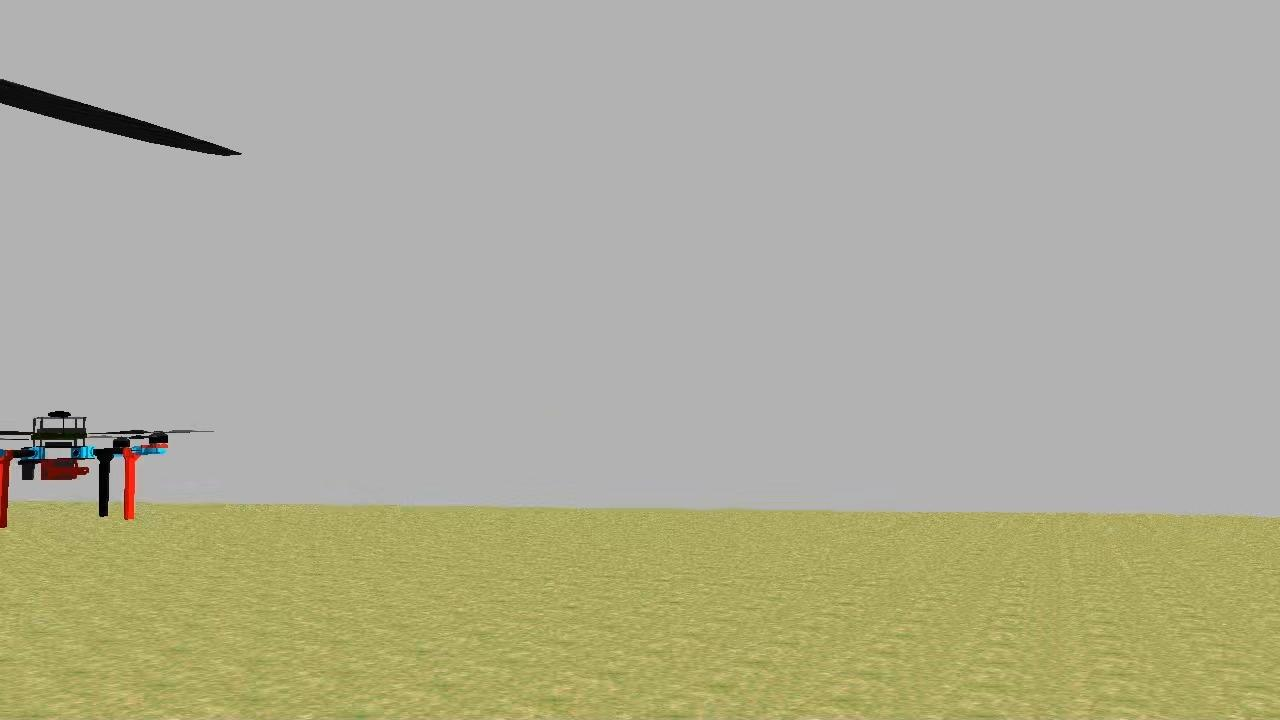UAV: (0, 400, 179, 540)
